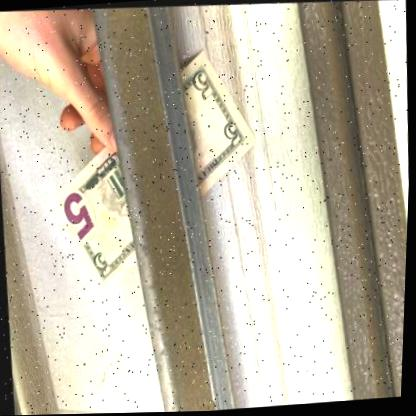five-back: (49, 48, 256, 295)
